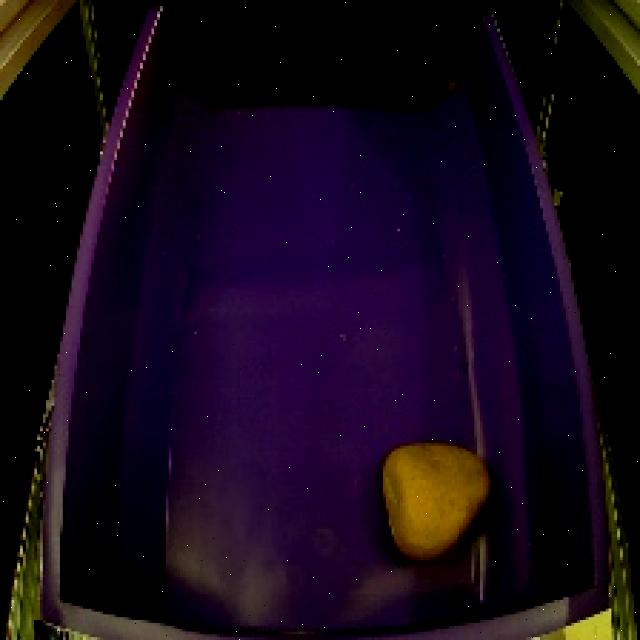cobbles: (369, 429, 501, 575)
